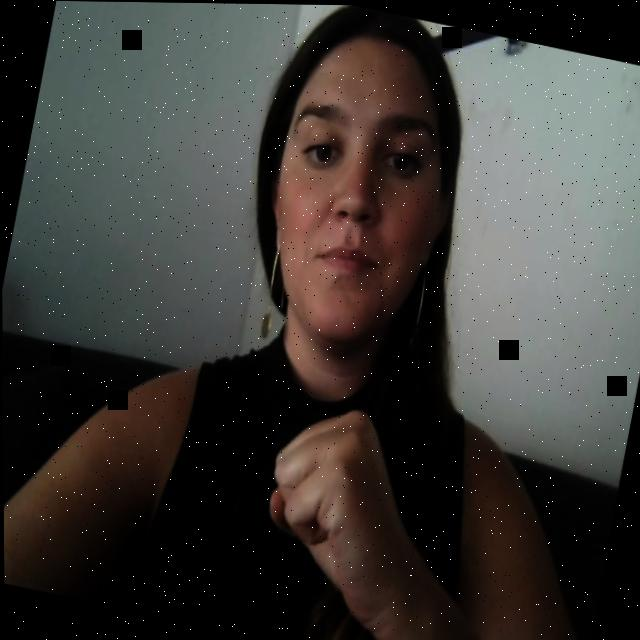Rock: (242, 387, 440, 627)
